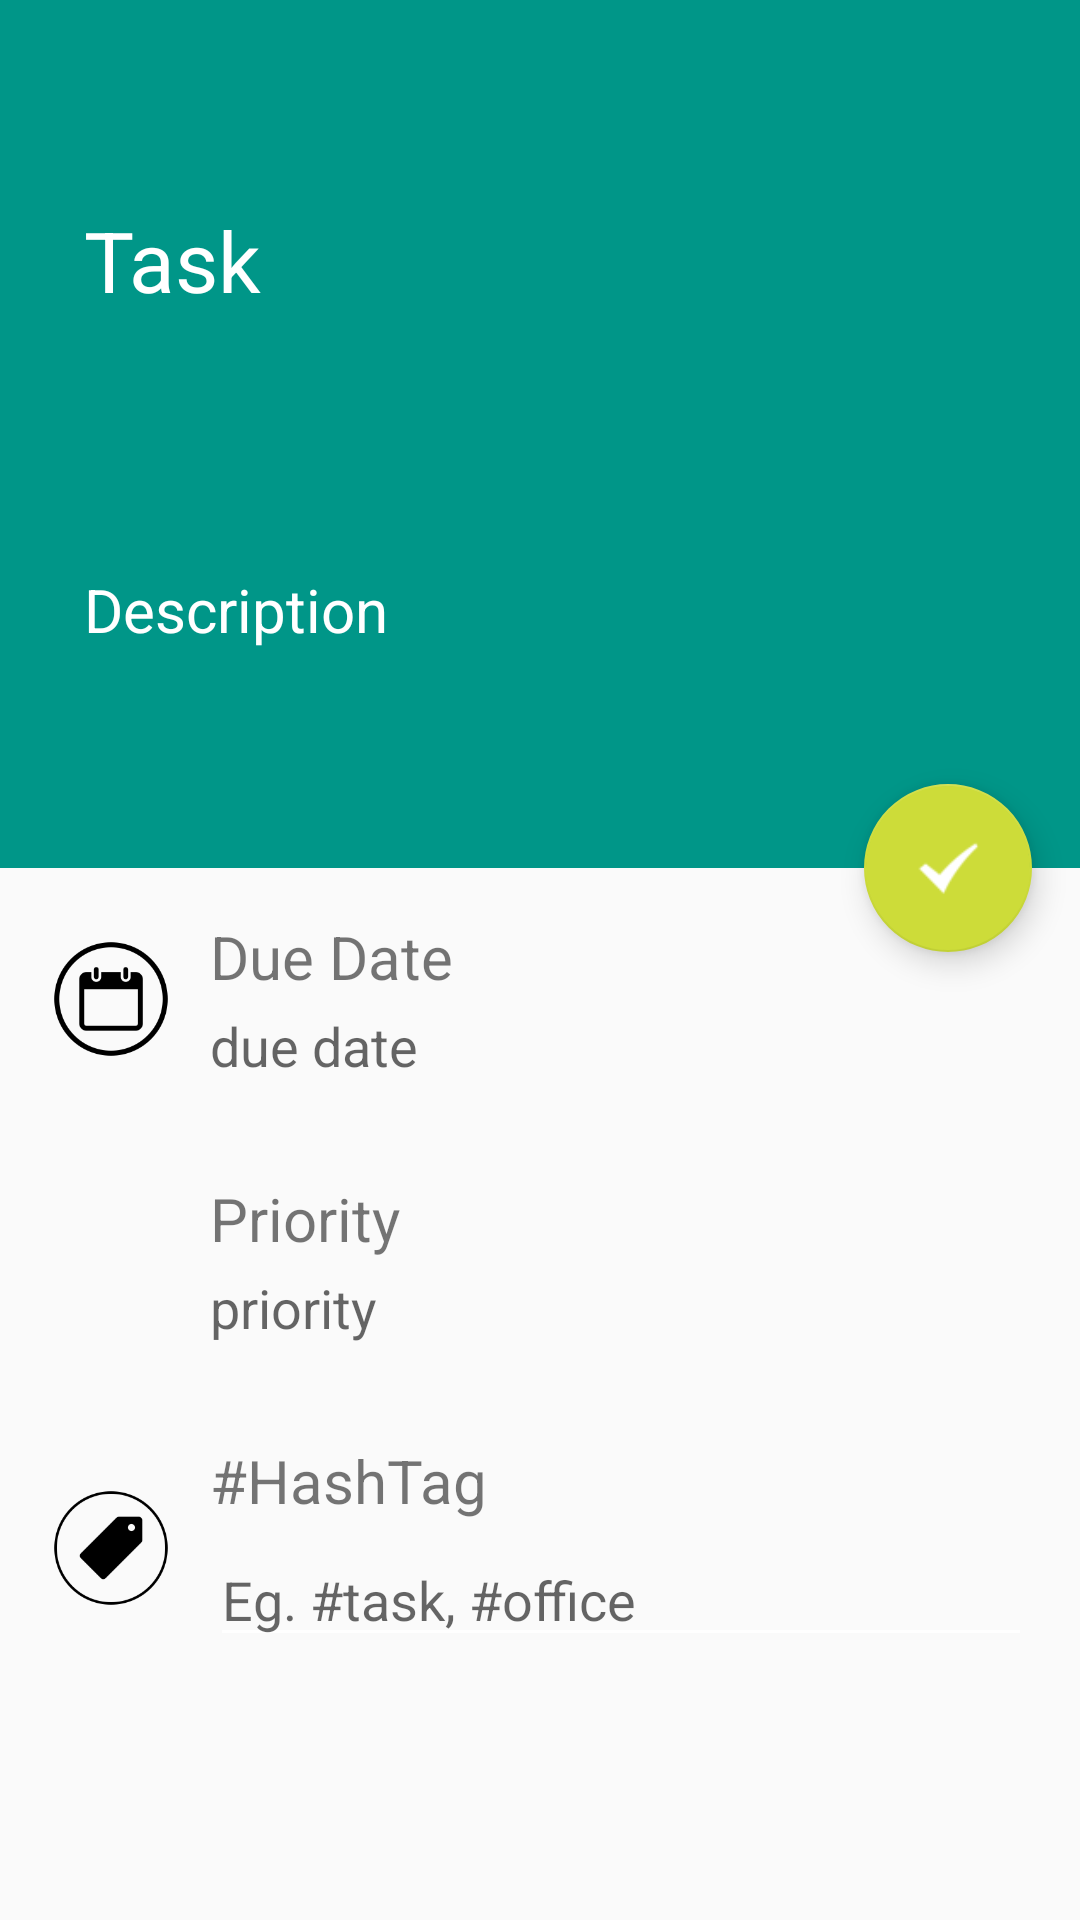

Where to tap for icons on this 1080w x 1920h app screen, as [x,y]:
done: [948,868]
label: [111,1548]
